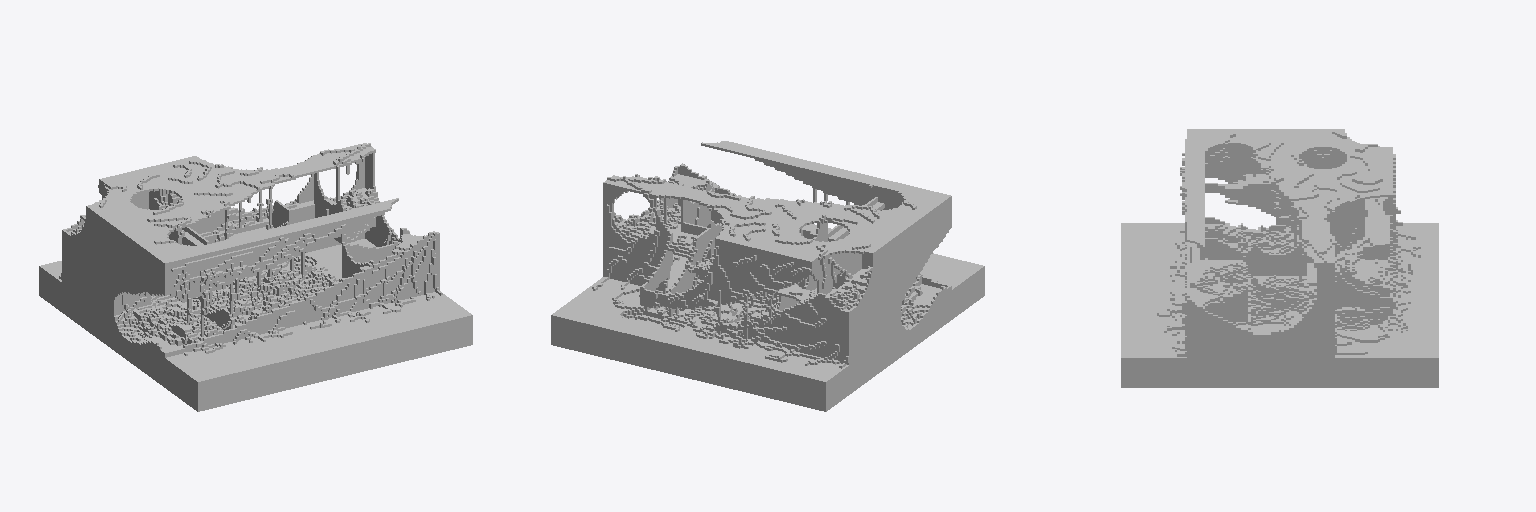
File: Map (21).obj
3 renders of one model, left to right at view 1: azimuth 30°, elevation 25°; view 2: azimuth 150°, elevation 25°; view 3: azimuth 270°, elevation 25°, orthographic.
Visible parts, largest first — view 1: ALL MAP!!!!!!!!!!!-18; view 2: ALL MAP!!!!!!!!!!!-18; view 3: ALL MAP!!!!!!!!!!!-18.
Part boxes in pixels (x1,y1,x2,y2): ALL MAP!!!!!!!!!!!-18: (39,143,472,411); ALL MAP!!!!!!!!!!!-18: (551,141,984,411); ALL MAP!!!!!!!!!!!-18: (1121,129,1438,387).
Size of the model in its own units: 125 by 56 by 125.